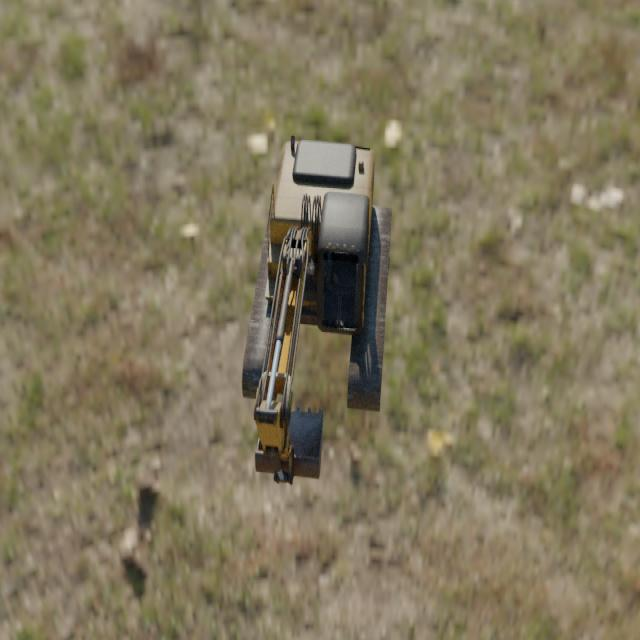excavator: (241, 135, 392, 485)
